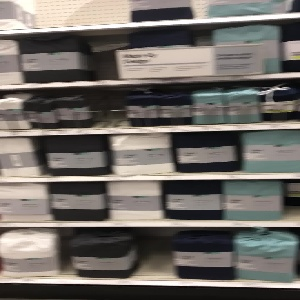void: (19, 1, 129, 30), (133, 231, 171, 281), (88, 86, 126, 130), (86, 35, 124, 78)
